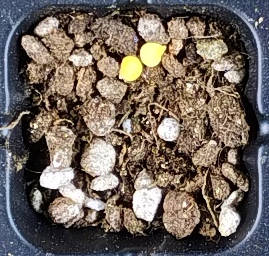pepper seed: (45, 12, 189, 95), (55, 7, 222, 74)
